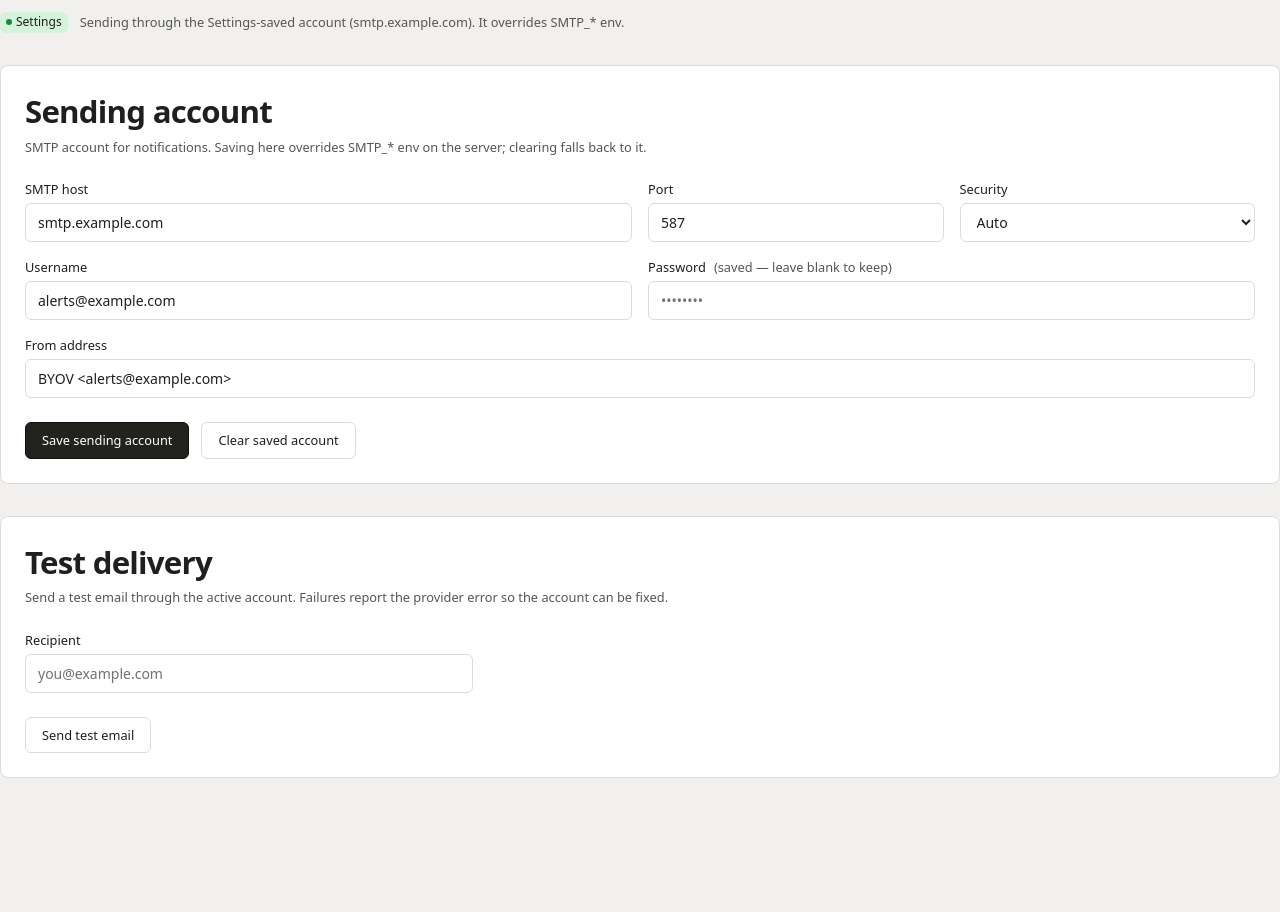
Scenario: MailSettingsForm › surfaces test delivery failures
The image size is (1280, 912).
Type "ada@example.com" into the field with test id "mail-test-to" at (249, 673), box [25, 654, 473, 693]
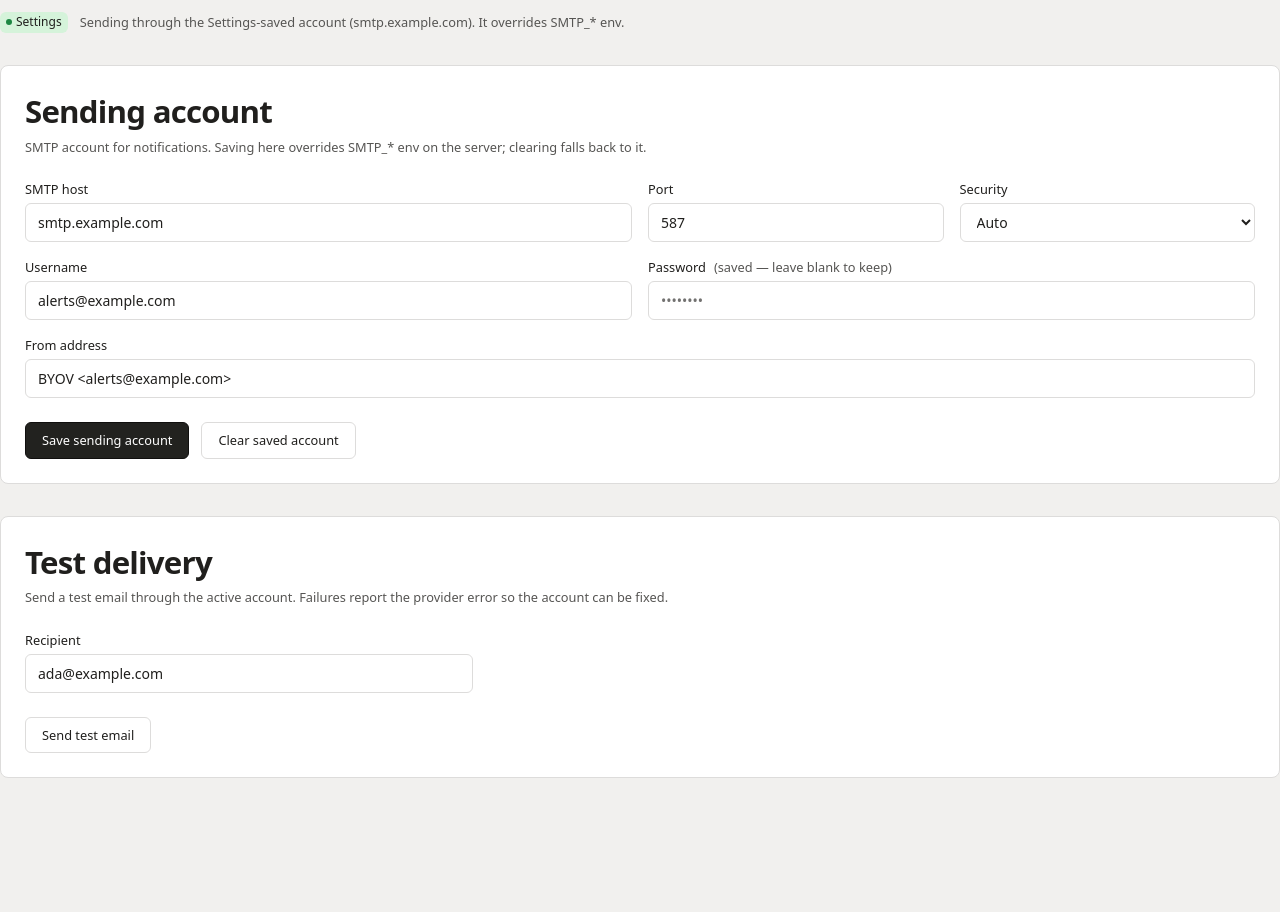
Click the button with test id "mail-test-send" at (88, 735), box [25, 717, 151, 753]
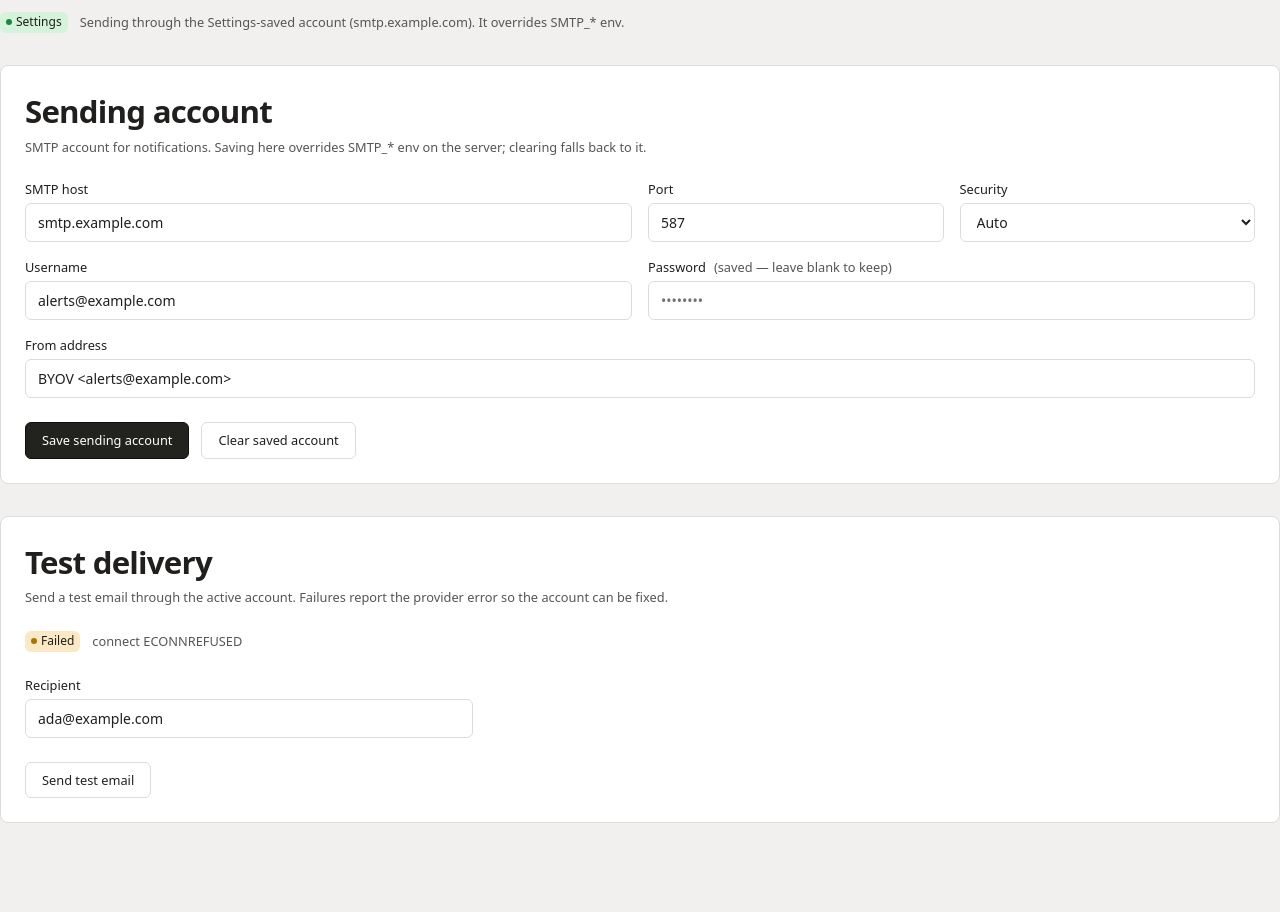
Expected: the message with test id "mail-test-result" shows "connect ECONNREFUSED", [92, 632, 242, 650]
